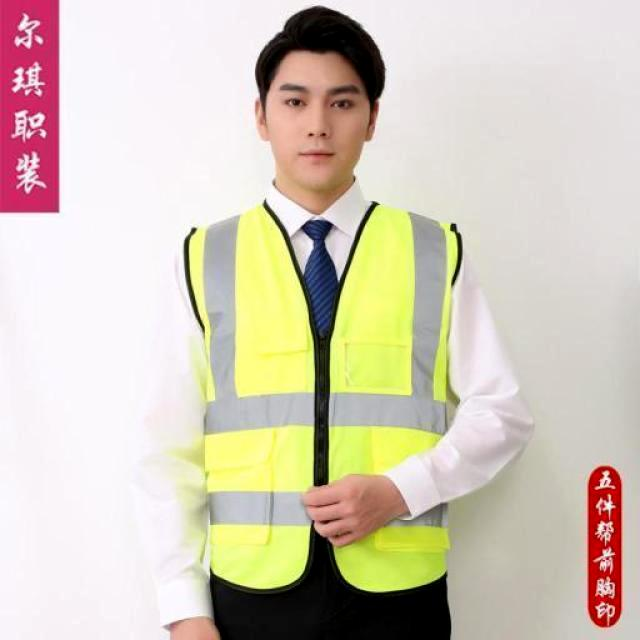person: (185, 6, 465, 639)
